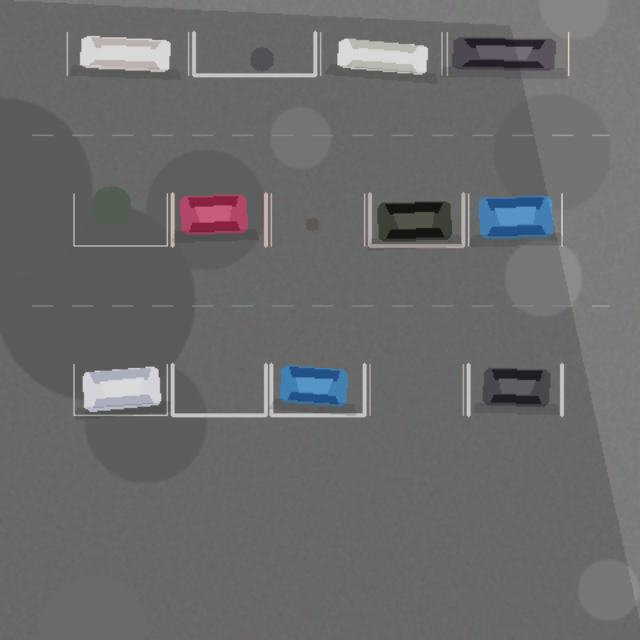space-empty: (193, 32, 315, 75), (73, 193, 167, 245), (271, 193, 364, 245), (369, 364, 463, 415), (172, 364, 265, 415)
space-occupied: (67, 32, 188, 75), (320, 32, 441, 75), (447, 32, 568, 75), (369, 193, 463, 245), (172, 193, 265, 245), (468, 193, 561, 245), (73, 364, 167, 415), (271, 364, 364, 415), (468, 364, 561, 415)
